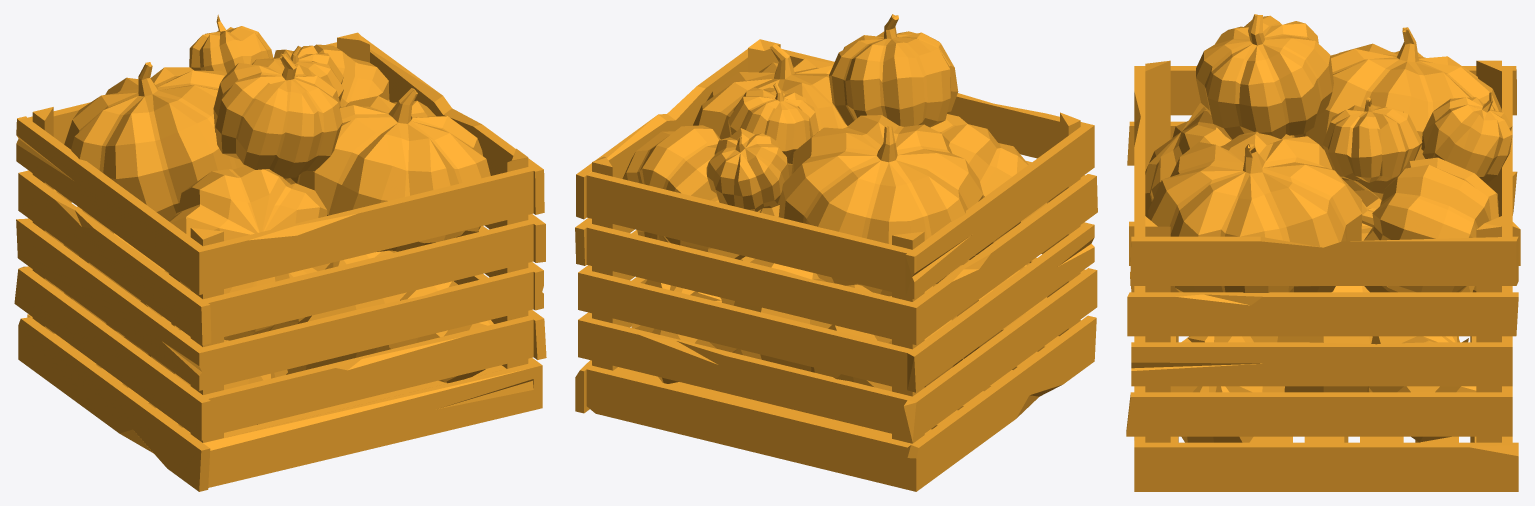
File: SM_Crate_Wood_Big_Pumpkin_A.fbx
The picture shows the model from 3 angles, left to right: view 1: azimuth 30°, elevation 25°; view 2: azimuth 150°, elevation 25°; view 3: azimuth 270°, elevation 25°; orthographic projection. The views are drawn at different scales.
Parts seen in each view (by area): view 1: crate-wood-big-pumpkin-a; view 2: crate-wood-big-pumpkin-a; view 3: crate-wood-big-pumpkin-a.
Part boxes in pixels (x1,y1,x2,y2): crate-wood-big-pumpkin-a: [14, 14, 546, 491]; crate-wood-big-pumpkin-a: [575, 14, 1097, 491]; crate-wood-big-pumpkin-a: [1126, 14, 1520, 491].
Size of the model in its own units: 1.14 by 1.14 by 1.08.
